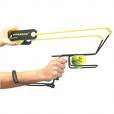tennis ball: (71, 54, 86, 67)
